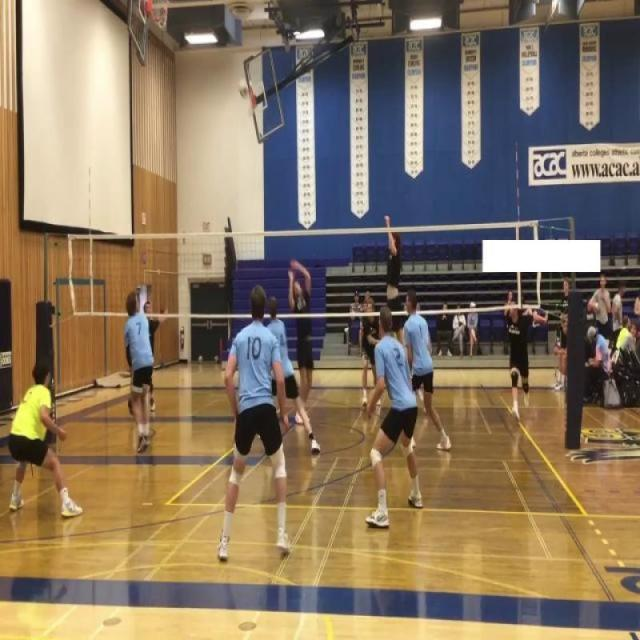volleyball: (238, 77, 249, 101), (198, 355, 204, 364), (214, 355, 219, 364)
